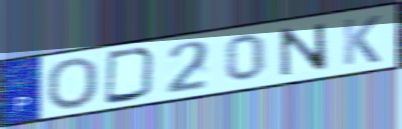0: (223, 32, 270, 84)
2: (165, 39, 213, 96)
D: (103, 46, 159, 106)
K: (340, 13, 383, 68)
N: (277, 21, 331, 79)
O: (44, 56, 101, 111)
